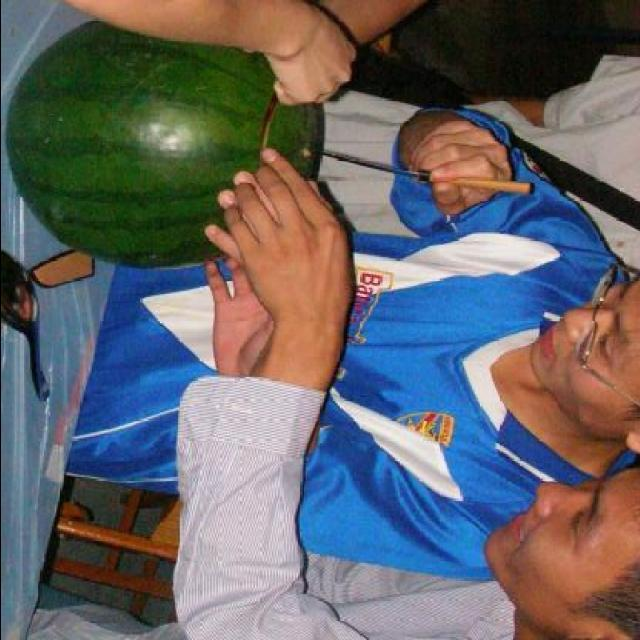Watermelon: (6, 20, 328, 272)
